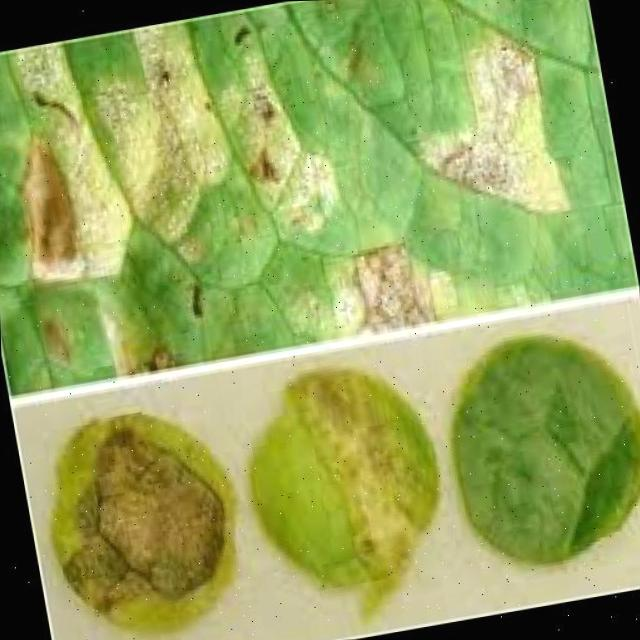Downy_Mildew: (0, 27, 343, 312), (228, 362, 456, 627), (30, 392, 249, 640)
